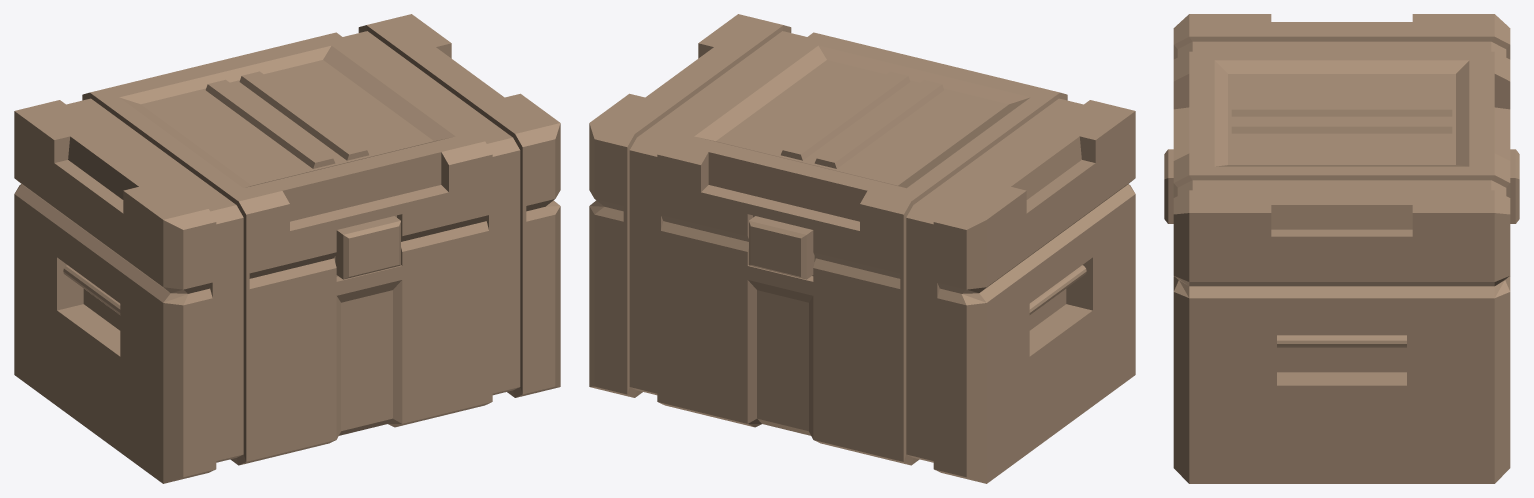
File: env_chest_01.glb
3 views of the same model, side by side, from view 1: azimuth 30°, elevation 25°; view 2: azimuth 150°, elevation 25°; view 3: azimuth 270°, elevation 25° (orthographic). The views are drawn at different scales.
Parts seen in each view (by area): view 1: _tmp_env_env_chest_01.obj; view 2: _tmp_env_env_chest_01.obj; view 3: _tmp_env_env_chest_01.obj.
Part boxes in pixels (<box>): _tmp_env_env_chest_01.obj: <box>14,14,560,483</box>; _tmp_env_env_chest_01.obj: <box>589,14,1135,483</box>; _tmp_env_env_chest_01.obj: <box>1164,14,1519,483</box>.
Size of the model in its own units: 0.6396 by 0.4062 by 0.4829.
